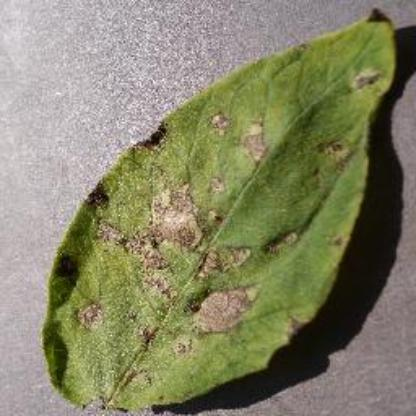Early-Blight: (44, 8, 408, 414)
